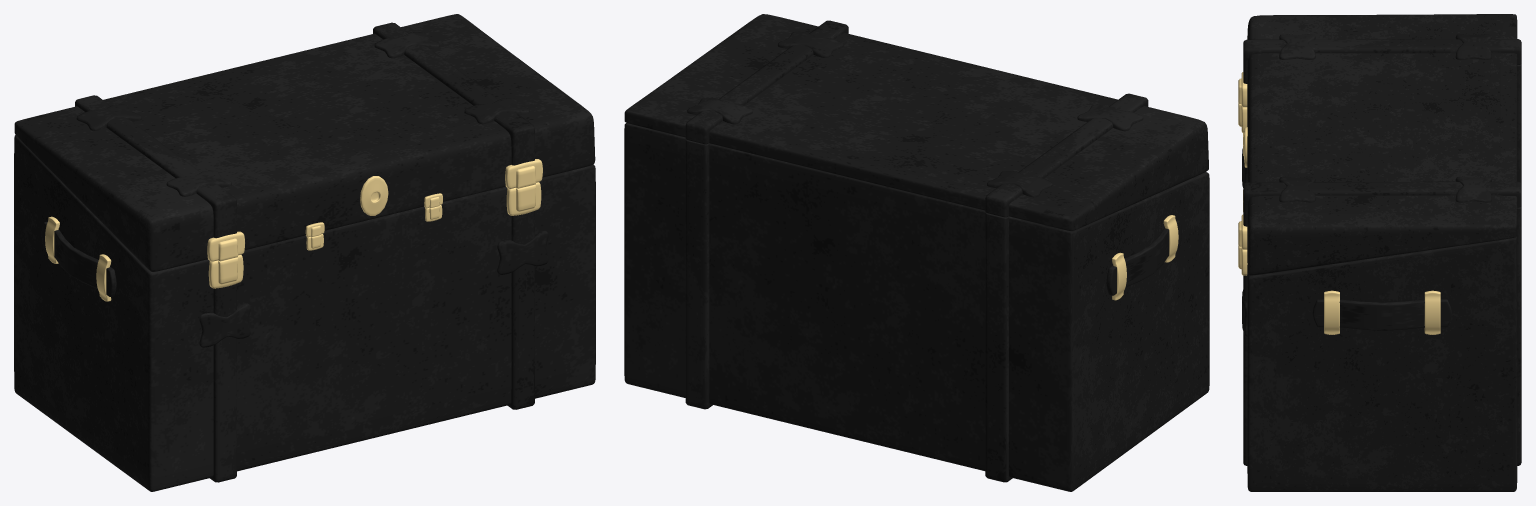
File: trunkTrunk.glb
3 renders of one model, left to right at view 1: azimuth 30°, elevation 25°; view 2: azimuth 150°, elevation 25°; view 3: azimuth 270°, elevation 25°, orthographic. The views are drawn at different scales.
Visible parts, largest first — view 1: trunkTrunk trunk trunk_grp, lid lid_grp trunkTrunk, trunkTrunk trunk_grp belt_L_B, trunkTrunk trunk_grp belt_R_B, lid_grp trunkTrunk belt_L, lid_grp trunkTrunk belt_R, trunkTrunk trunk_grp handle_R, trunkTrunk trunk_grp strap_L_F, trunkTrunk trunk_grp strap_R_F, lid_grp trunkTrunk strap_R_B, lid_grp trunkTrunk strap_L_B, lid_grp trunkTrunk lock (+2 smaller); view 2: trunkTrunk trunk trunk_grp, lid lid_grp trunkTrunk, trunkTrunk trunk_grp belt_L_B, trunkTrunk trunk_grp belt_R_B, lid_grp trunkTrunk belt_L, lid_grp trunkTrunk belt_R, trunkTrunk trunk_grp handle_R, lid_grp trunkTrunk strap_L_B, lid_grp trunkTrunk strap_R_B, lid_grp trunkTrunk strap_R_F, lid_grp trunkTrunk strap_L_F; view 3: trunkTrunk trunk trunk_grp, lid lid_grp trunkTrunk, lid_grp trunkTrunk belt_R, lid_grp trunkTrunk belt_L, trunkTrunk trunk_grp handle_L, trunkTrunk trunk_grp belt_L_B, lid_grp trunkTrunk strap_L_F, lid_grp trunkTrunk strap_L_B, lid_grp trunkTrunk strap_R_F, lid_grp trunkTrunk strap_R_B, trunkTrunk trunk_grp handle_L_strap_B, trunkTrunk trunk_grp handle_L_strap_F (+1 smaller).
Boxes of the visible parts, box(x1,y1,x2,y2) form: trunkTrunk trunk trunk_grp: box(14, 134, 595, 491); lid lid_grp trunkTrunk: box(14, 14, 595, 271); trunkTrunk trunk_grp belt_L_B: box(507, 211, 534, 409); trunkTrunk trunk_grp belt_R_B: box(210, 283, 236, 482); lid_grp trunkTrunk belt_L: box(373, 22, 534, 165); lid_grp trunkTrunk belt_R: box(75, 95, 236, 238); trunkTrunk trunk_grp handle_R: box(41, 221, 116, 296); trunkTrunk trunk_grp strap_L_F: box(497, 230, 548, 274); trunkTrunk trunk_grp strap_R_F: box(199, 303, 250, 347); lid_grp trunkTrunk strap_R_B: box(76, 104, 141, 130); lid_grp trunkTrunk strap_L_B: box(374, 32, 439, 58); lid_grp trunkTrunk lock: box(360, 176, 388, 215); trunkTrunk trunk trunk_grp: box(624, 123, 1209, 491); lid lid_grp trunkTrunk: box(624, 14, 1208, 230); trunkTrunk trunk_grp belt_L_B: box(685, 139, 712, 409); trunkTrunk trunk_grp belt_R_B: box(985, 213, 1012, 482); lid_grp trunkTrunk belt_L: box(685, 20, 848, 144); lid_grp trunkTrunk belt_R: box(985, 93, 1148, 217); trunkTrunk trunk_grp handle_R: box(1106, 220, 1181, 295); lid_grp trunkTrunk strap_L_B: box(687, 97, 752, 124); lid_grp trunkTrunk strap_R_B: box(987, 171, 1052, 197); lid_grp trunkTrunk strap_R_F: box(1077, 104, 1143, 131); lid_grp trunkTrunk strap_L_F: box(777, 31, 843, 57); trunkTrunk trunk trunk_grp: box(1247, 233, 1517, 491); lid lid_grp trunkTrunk: box(1247, 14, 1517, 275); lid_grp trunkTrunk belt_R: box(1243, 39, 1521, 83); lid_grp trunkTrunk belt_L: box(1243, 181, 1521, 226); trunkTrunk trunk_grp handle_L: box(1312, 299, 1451, 330); trunkTrunk trunk_grp belt_L_B: box(1243, 206, 1521, 465); lid_grp trunkTrunk strap_L_F: box(1279, 176, 1315, 202); lid_grp trunkTrunk strap_L_B: box(1455, 176, 1491, 202); lid_grp trunkTrunk strap_R_F: box(1279, 34, 1315, 59); lid_grp trunkTrunk strap_R_B: box(1455, 34, 1491, 59); trunkTrunk trunk_grp handle_L_strap_B: box(1424, 290, 1440, 334); trunkTrunk trunk_grp handle_L_strap_F: box(1324, 290, 1339, 334).
Size of the model in its own units: 0.0634 by 0.0363 by 0.0336.
Materials: 1 (1 with a texture image).
